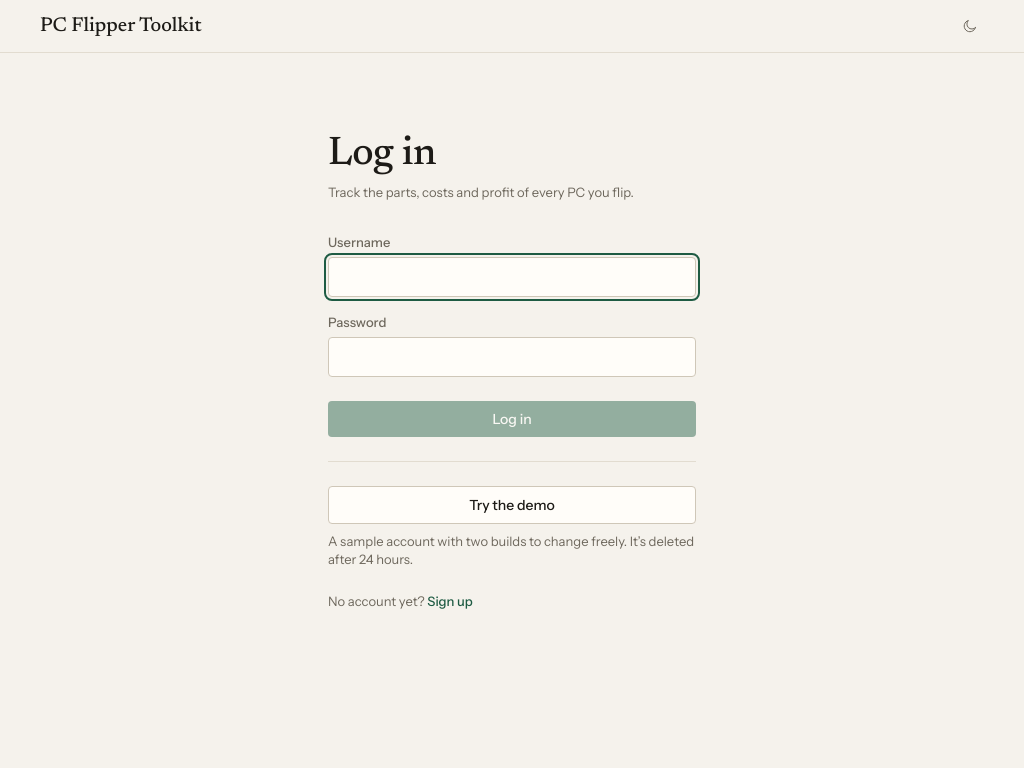
Test case: a wrong password shows the server's message
Type "carol" into the field labelled "Username" at (512, 277), box [328, 257, 696, 297]
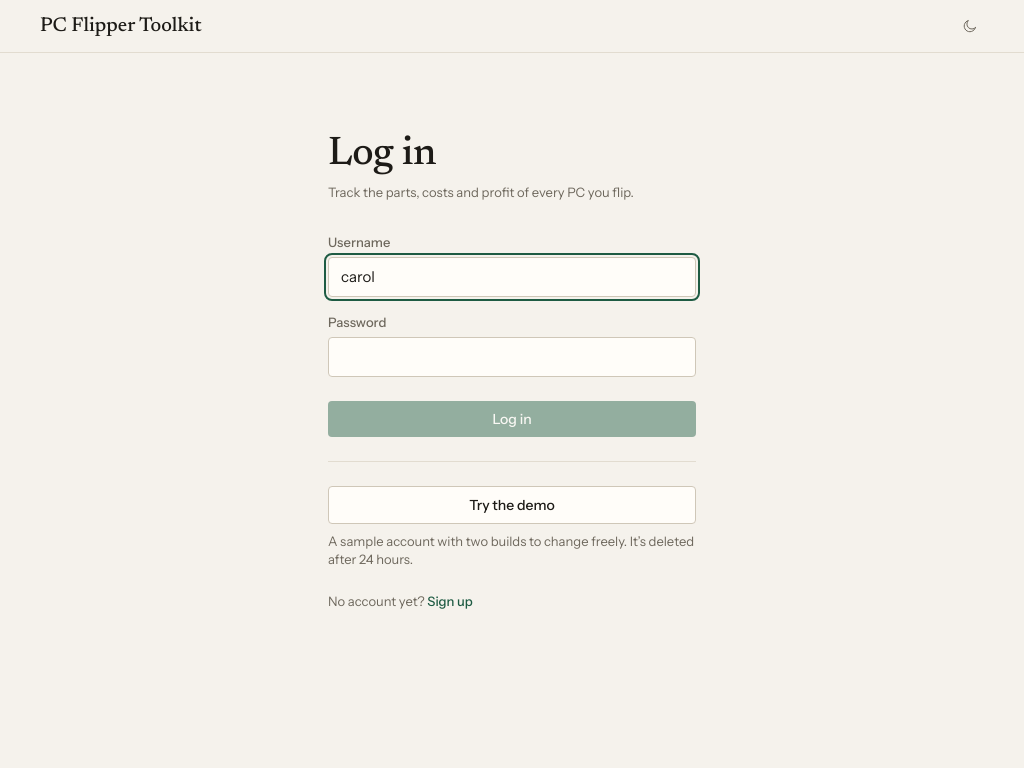
Type "nope" into the password field labelled "Password" at (512, 357), box [328, 337, 696, 377]
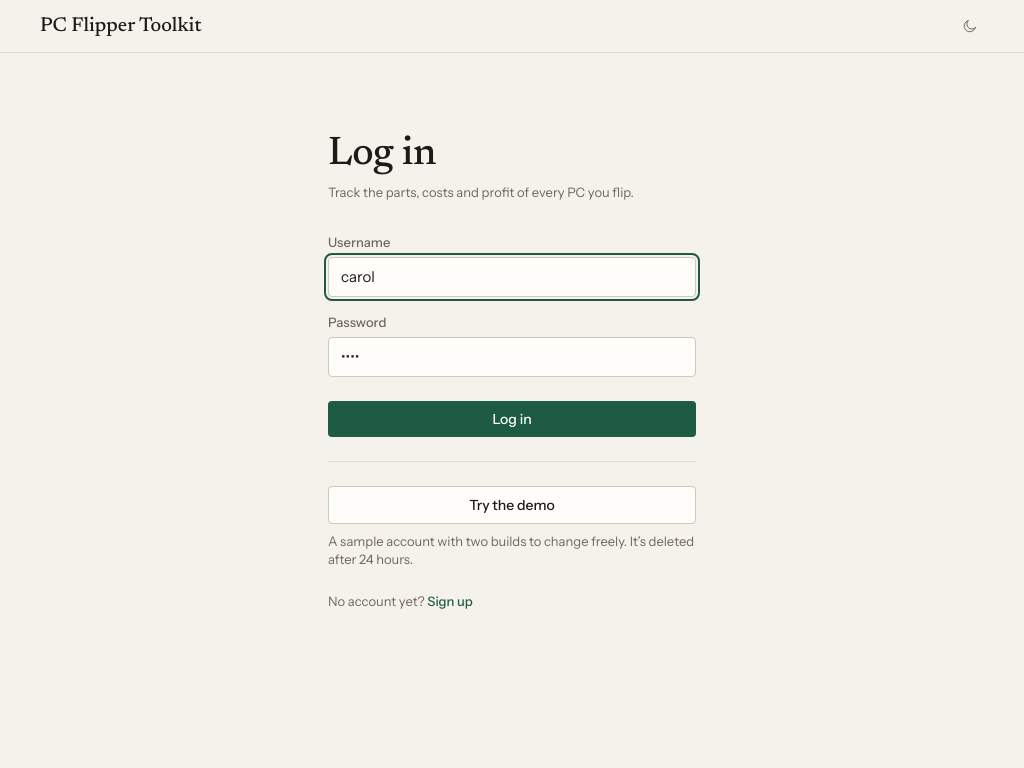
Click the button "Log in" at (512, 419), box [328, 401, 696, 437]
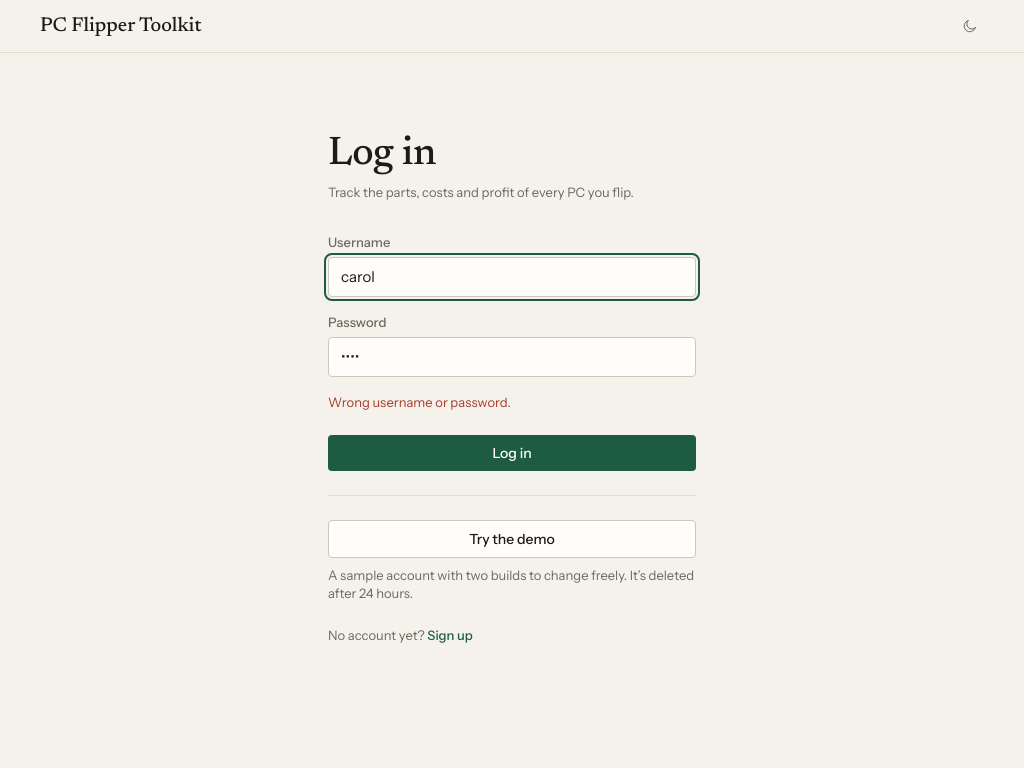
expect the message reads "Wrong username or password.": met, box [328, 394, 511, 410]
